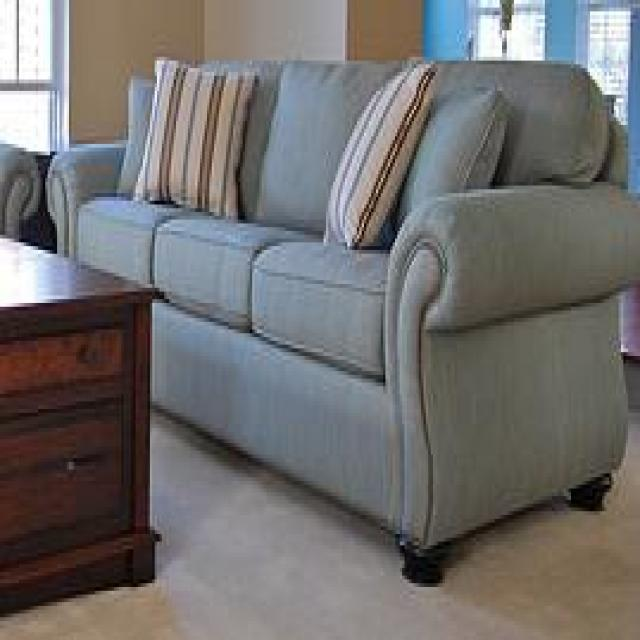sofa: (46, 48, 640, 596)
